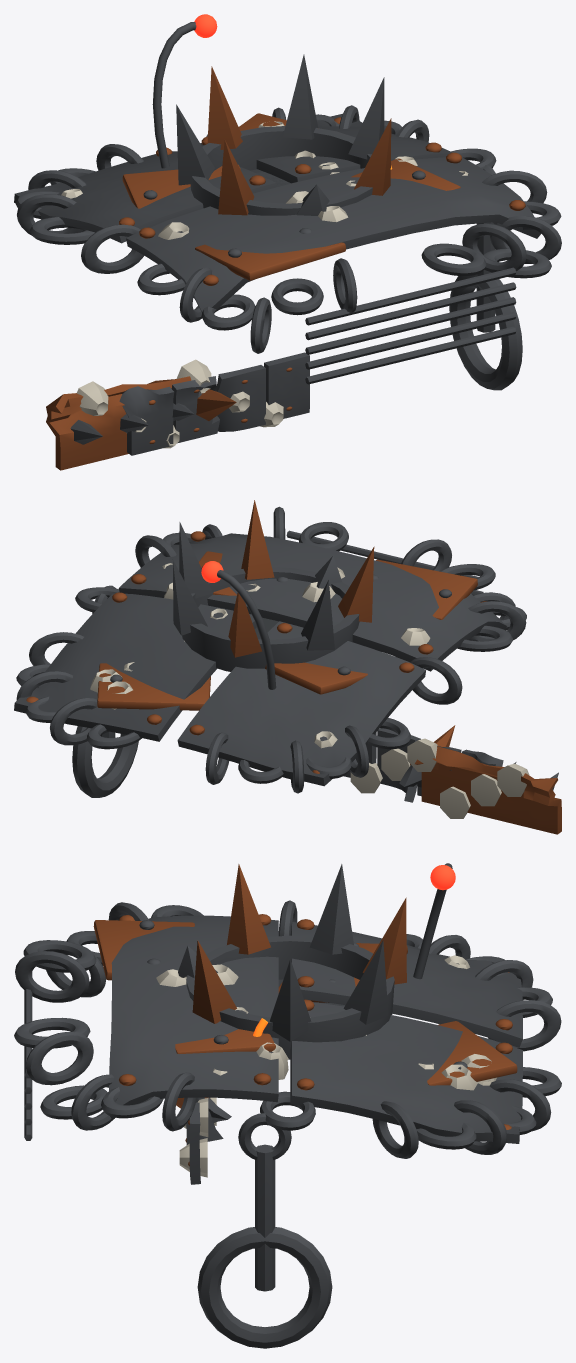
The model's file is enemy-gear.glb.
The picture shows the model from 3 angles, top to bottom: view 1: azimuth 30°, elevation 25°; view 2: azimuth 150°, elevation 25°; view 3: azimuth 270°, elevation 25°; orthographic projection. The views are drawn at different scales.
Visible parts, largest first — view 1: enemy_corrodius_mesh, enemy_corrodius_claw_mesh, enemy_scavenger_claw_mesh, enemy_scrapling_mesh, enemy_scavenger_mesh; view 2: enemy_corrodius_mesh, enemy_scavenger_claw_mesh, enemy_scrapling_mesh, enemy_corrodius_claw_mesh, enemy_scavenger_mesh; view 3: enemy_corrodius_mesh, enemy_scrapling_mesh, enemy_scavenger_mesh, enemy_corrodius_claw_mesh, enemy_scavenger_claw_mesh.
Part boxes in pixels (left/top/right/bottom): enemy_corrodius_mesh: left=14, top=54, right=561, bottom=390; enemy_corrodius_claw_mesh: left=119, top=352, right=309, bottom=455; enemy_scavenger_claw_mesh: left=46, top=359, right=283, bottom=470; enemy_scrapling_mesh: left=122, top=14, right=460, bottom=280; enemy_scavenger_mesh: left=61, top=121, right=468, bottom=239; enemy_corrodius_mesh: left=14, top=500, right=526, bottom=797; enemy_scavenger_claw_mesh: left=350, top=738, right=561, bottom=834; enemy_scrapling_mesh: left=97, top=551, right=477, bottom=710; enemy_corrodius_claw_mesh: left=344, top=725, right=503, bottom=802; enemy_scavenger_mesh: left=90, top=563, right=430, bottom=748; enemy_corrodius_mesh: left=14, top=864, right=561, bottom=1348; enemy_scrapling_mesh: left=93, top=863, right=517, bottom=1085; enemy_scavenger_mesh: left=156, top=925, right=496, bottom=1090; enemy_corrodius_claw_mesh: left=176, top=1097, right=231, bottom=1184; enemy_scavenger_claw_mesh: left=179, top=1097, right=216, bottom=1177.
Size of the model in its own units: 0.2299 by 0.1649 by 0.2154.
